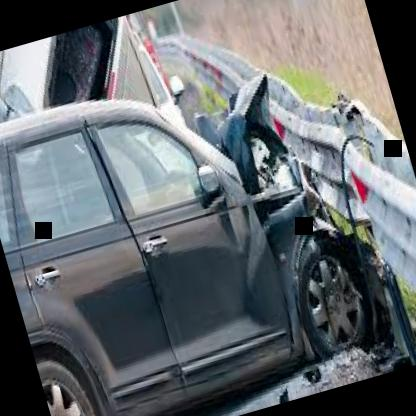accident: (24, 0, 404, 416)
